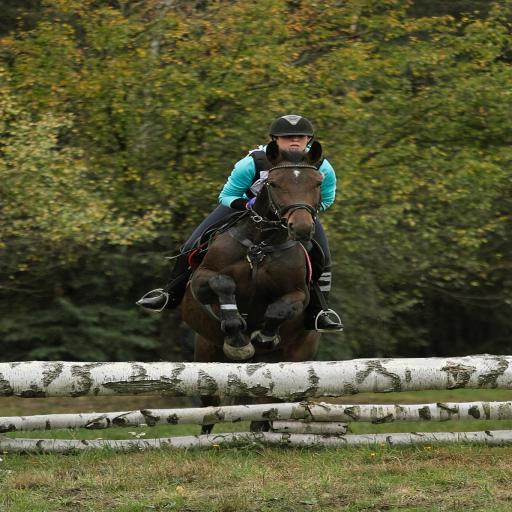horse: (176, 140, 323, 436)
